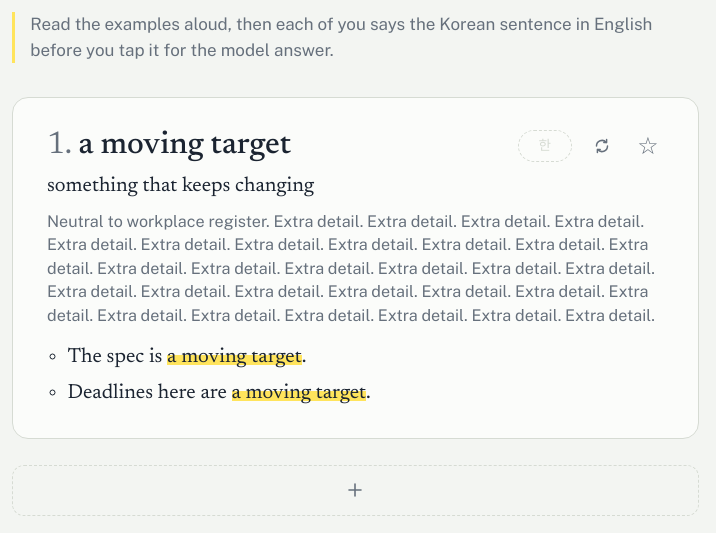
Test: ExpressionsTab › keeps the Korean behind a chip beside the phrase until tapped
This screenshot has width=716, height=533.
Expected: the text "일부러 반대 입장을 취하다" is not shown
Click the button named "Korean for a moving target" at x=545, y=146, box [518,130,572,162]
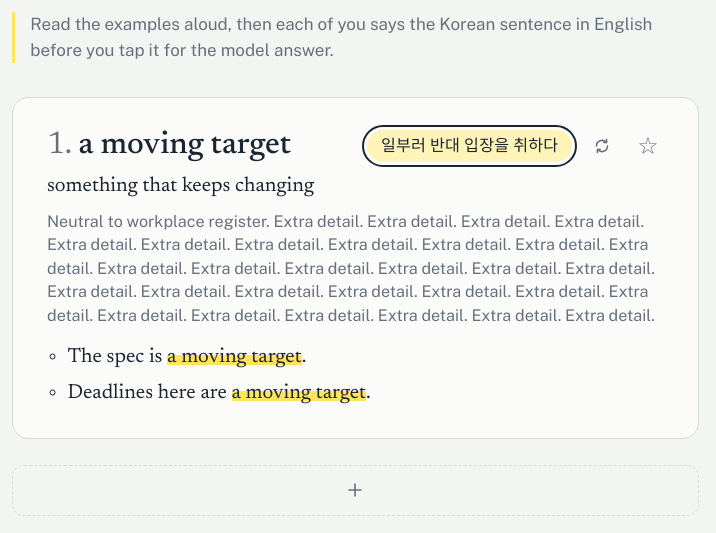
Expected: the button with aria-label "Hide the Korean for a moving target" reads "일부러 반대 입장을 취하다", [367,130,572,162]
